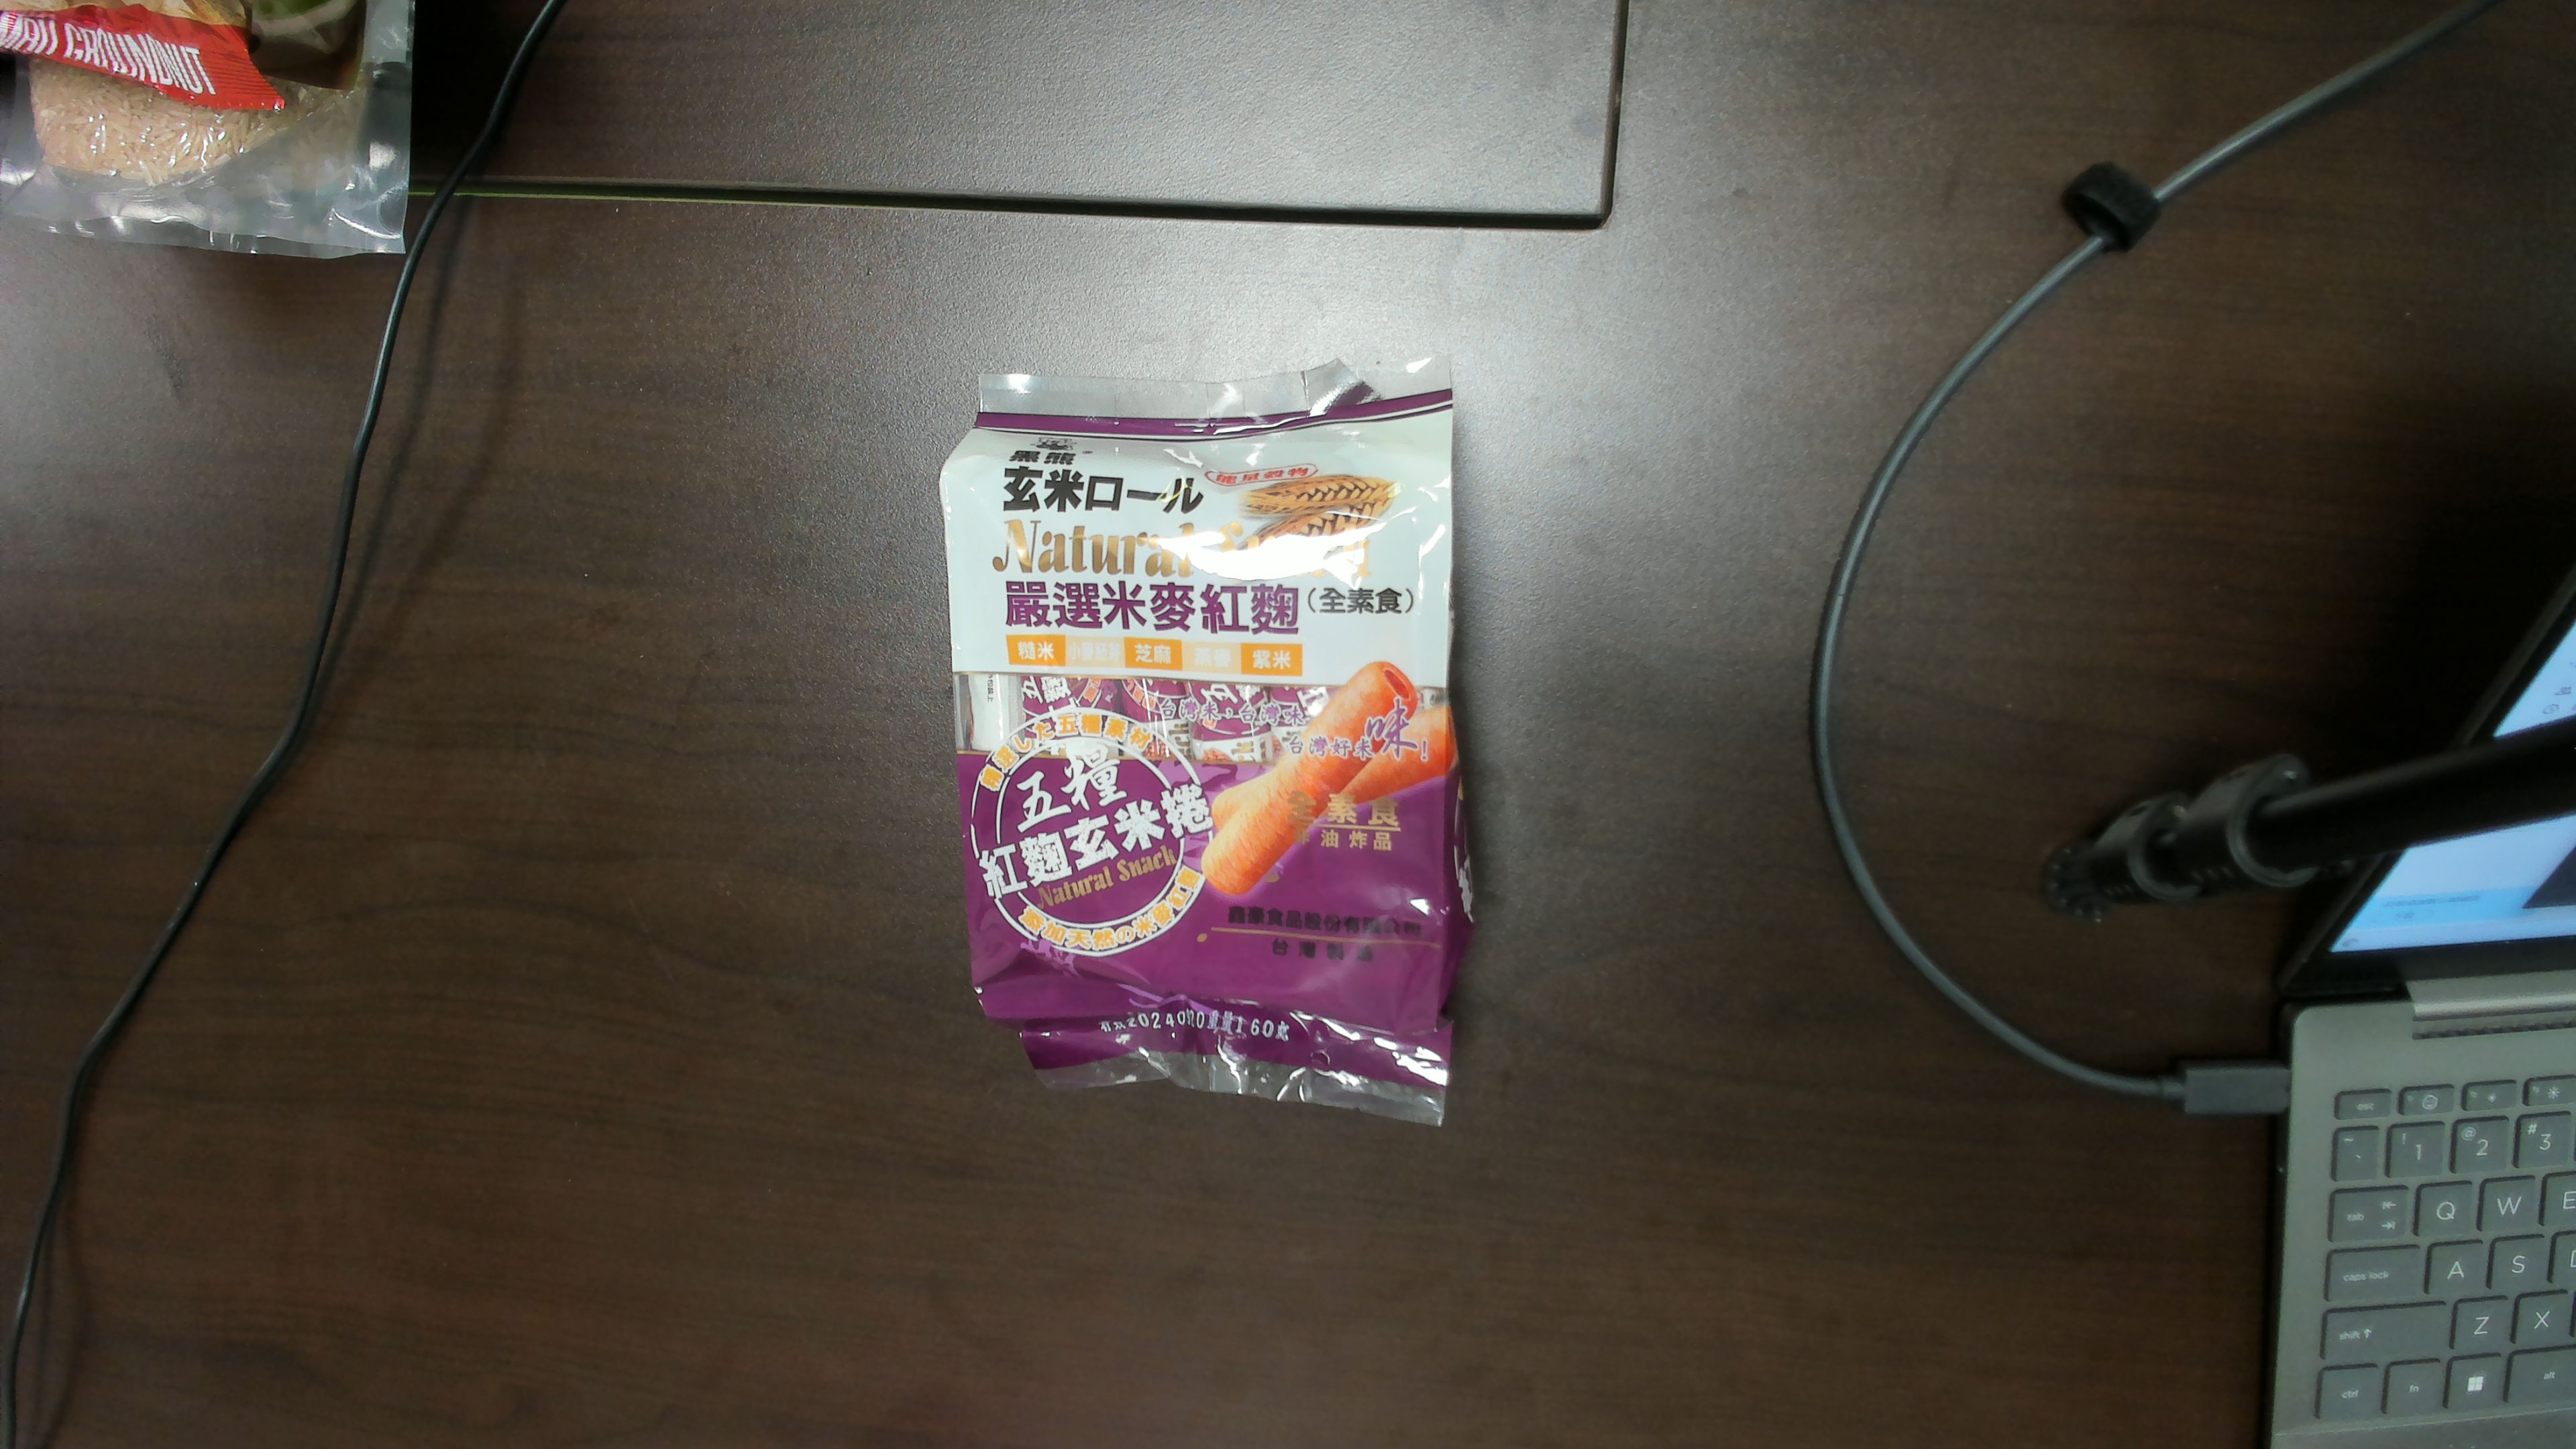BiscuitsCrackersCookies_100-199g_NonHalal_NonHealthy: (982, 460, 1440, 962)
